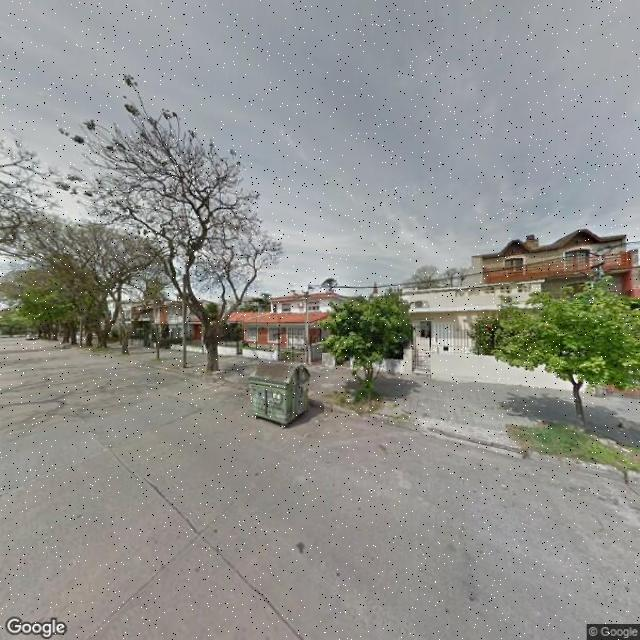garbage container: (244, 356, 321, 433)
